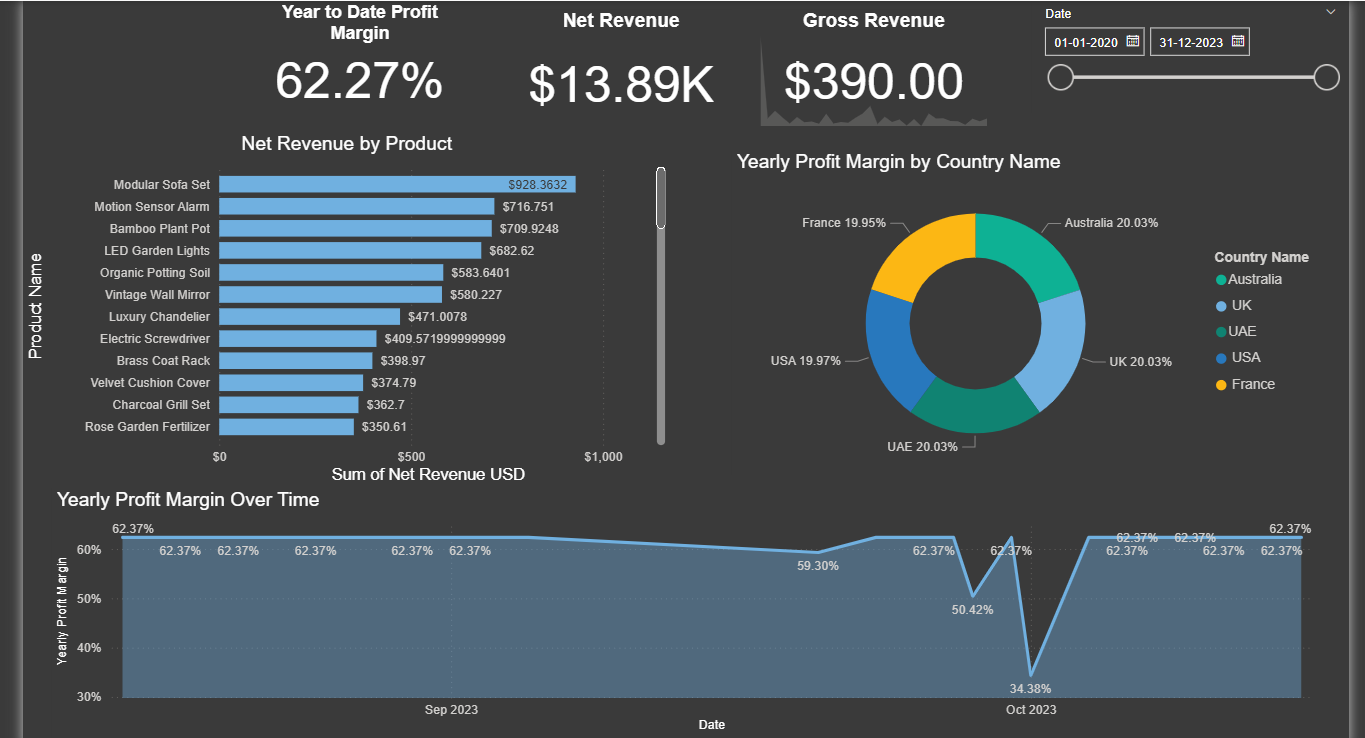

What the dashboard file says about the page in this screenshot:
{"tool":"powerbi","page":{"name":"Profit overview","canvas":[1280,720],"ordinal":1},"visuals":[{"type":"donutChart","fields":{"Category":["Sales in USD.Country Name"],"Y":["Sales in USD.Yearly Profit Margin"]},"box":[683.8,145,580,312.5],"z":1000},{"type":"clusteredBarChart","title":"Net Revenue by Product","fields":{"Category":["Sales in USD.Product Name"],"Y":["Sum(Sales in USD.Net Revenue USD)"]},"box":[0,126.2,625,343.8],"z":1001},{"type":"areaChart","title":"Yearly Profit Margin Over Time","fields":{"Category":["CalendarTable.Date"],"Y":["Sales in USD.Yearly Profit Margin"]},"box":[27.5,470,1236.2,240],"z":1002},{"type":"card","title":"Net Revenue","fields":{"Values":["Sum(Sales in USD.Net Revenue USD)"]},"box":[470,8.8,213.8,117.5],"z":1003},{"type":"card","title":"Year to Date Profit Margin","fields":{"Values":["Sales in USD.YTD Profit Margin"]},"box":[220,0,211.2,107.5],"z":1004},{"type":"kpi","title":" Gross Revenue ","fields":{"Indicator":["Sum(Sales in USD.Gross Revenue USD)"],"TrendLine":["CalendarTable.Date"]},"box":[707.5,8.8,228.8,117.5],"z":1005},{"type":"slicer","fields":{"Values":["CalendarTable.Date"]},"box":[973.8,0,306.2,107.5],"z":1006}]}

Visuals, with their boxes on the page's 1280x720 design canvas (x1, y1, x2, y2). These are canvas units, not pixel positions in the 1365x738 screenshot, which may show the page scaled, cropped or inside an application window:
donutChart - Sales in USD.Country Name x Sales in USD.Yearly Profit Margin: 684 145 1264 458
"Net Revenue by Product" clusteredBarChart: 0 126 625 470
"Yearly Profit Margin Over Time" areaChart: 28 470 1264 710
"Net Revenue" card: 470 9 684 126
"Year to Date Profit Margin" card: 220 0 431 108
" Gross Revenue " kpi: 708 9 936 126
slicer - CalendarTable.Date: 974 0 1280 108
